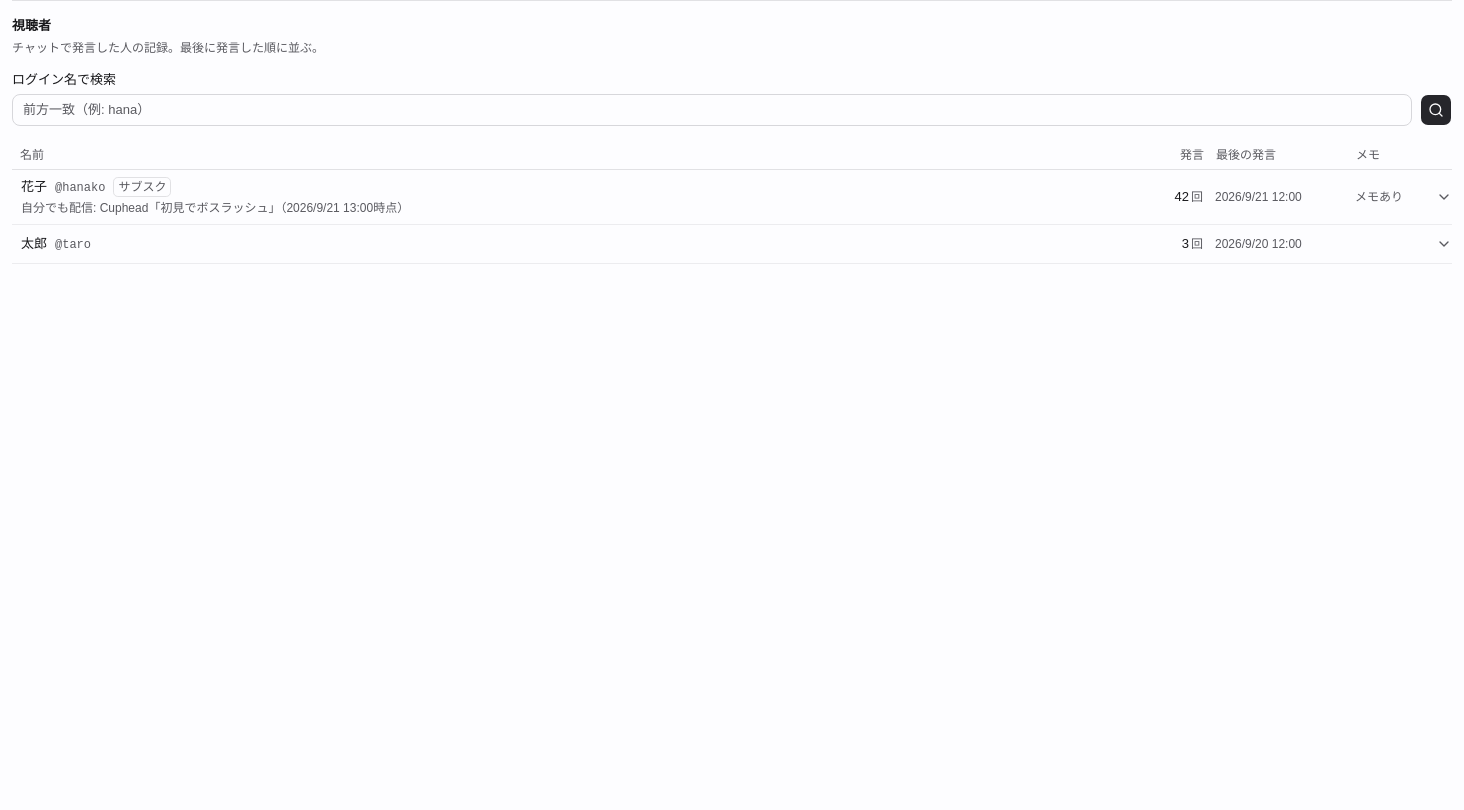
メモ › 保存を待っているあいだに書き足したメモは、保存が終わっても書きかけとして残す
Expected: the list named "視聴者の一覧" is shown, 12,170 -> 1452,264
Click the button "花子": (84, 188) 12,170 -> 1428,224
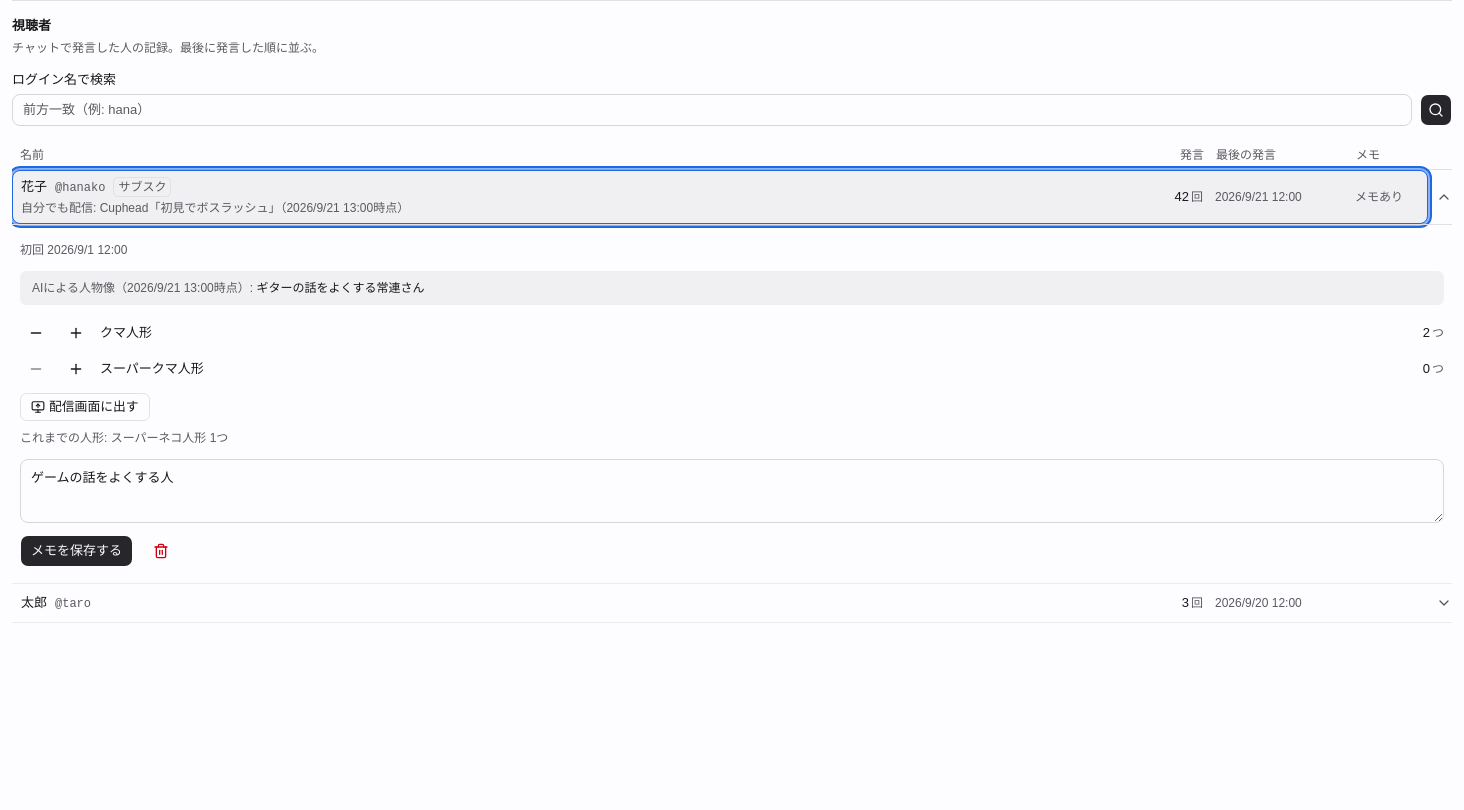
Replace the text in the text box named "花子 へのメモ" with "常連さん": (732, 491) 20,459 -> 1444,523
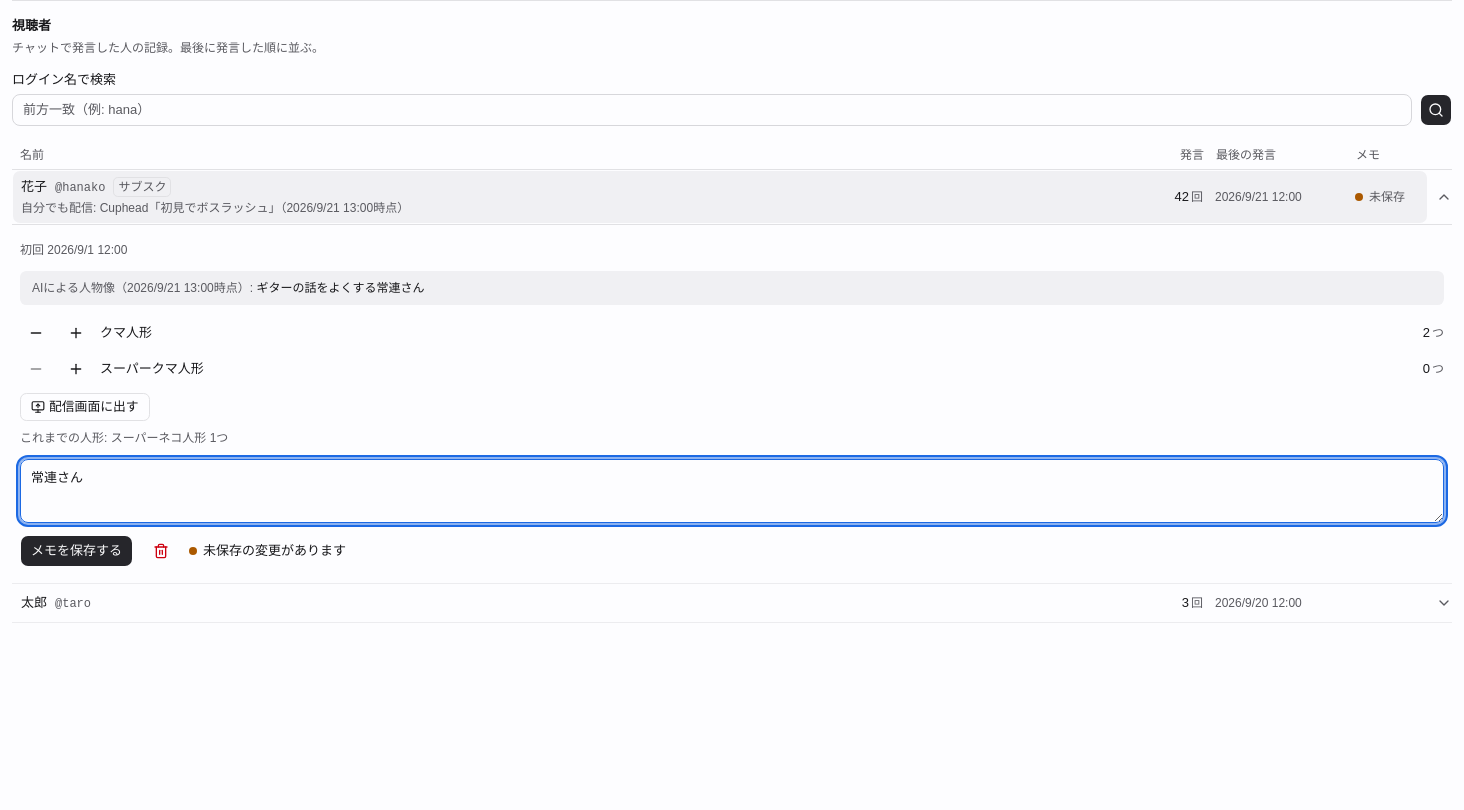
Click the button with aria-label "花子 のメモを保存する": (76, 551) 20,535 -> 133,567
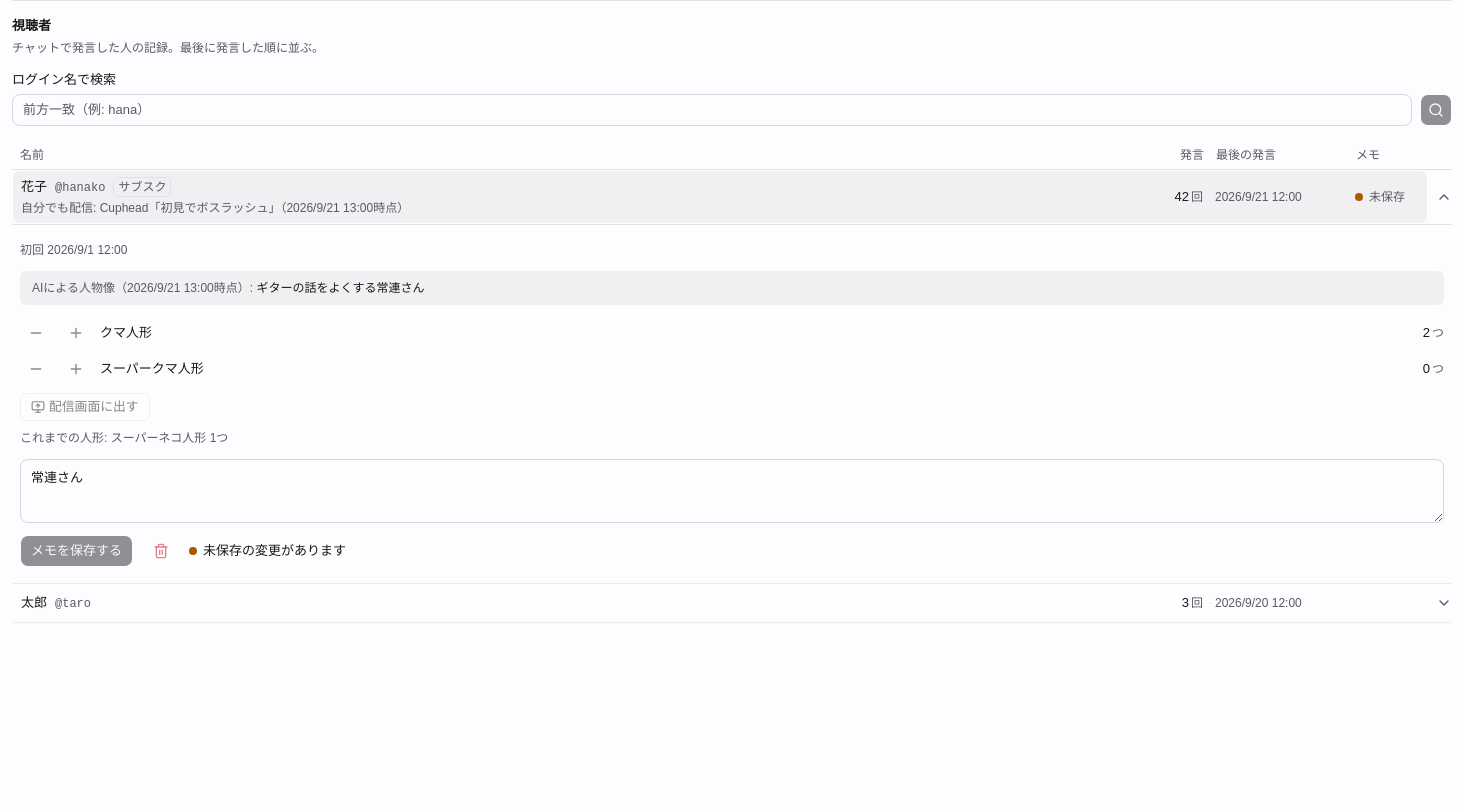
In the text box named "花子 へのメモ": (732, 491) 20,459 -> 1444,523, type "。歌が好き"
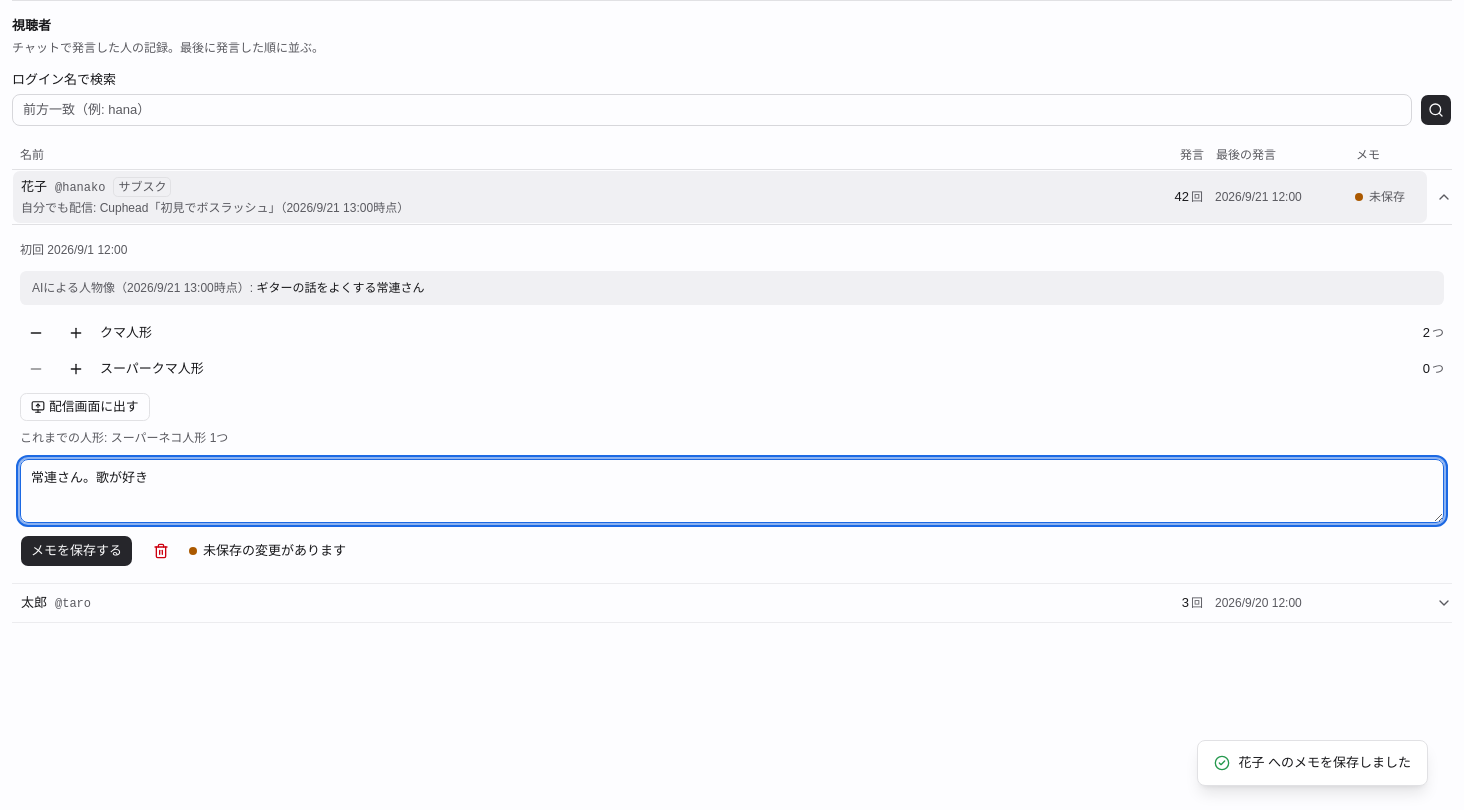
Expected: the text "未保存の変更があります" is shown, 189,541 -> 346,561
Expected: the text "花子 へのメモを保存しました" is shown, 1197,740 -> 1428,786
Expected: the text box named "花子 へのメモ" holds "常連さん。歌が好き", 20,459 -> 1444,523
